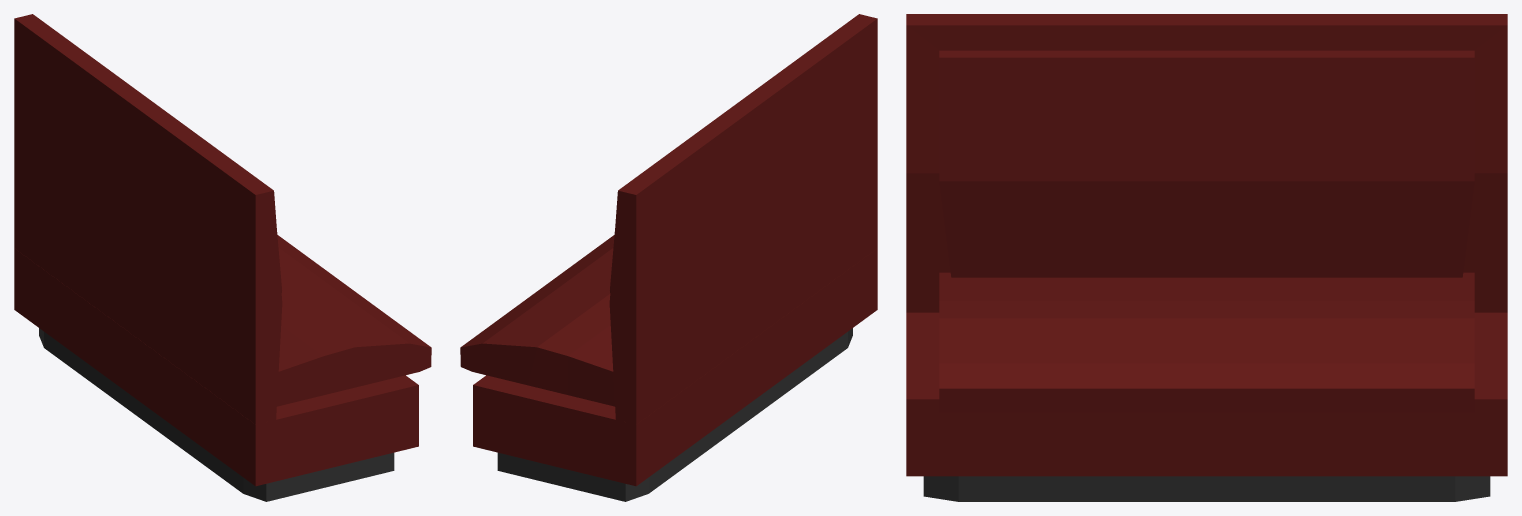
The model's file is booth.fbx.
3 views of the same model, side by side, from view 1: azimuth 30°, elevation 25°; view 2: azimuth 150°, elevation 25°; view 3: azimuth 270°, elevation 25° (orthographic). The views are drawn at different scales.
Parts seen in each view (by area): view 1: Cube.002, Cube.001, Cube; view 2: Cube.002, Cube.001, Cube; view 3: Cube.002, Cube.001, Cube.
Boxes of the visible parts, x1,y1,x2,y2 form: Cube.002: (14,14,282,424); Cube.001: (14,235,431,486); Cube: (39,328,394,501); Cube.002: (609,14,877,424); Cube.001: (460,235,877,486); Cube: (497,328,852,501); Cube.002: (906,14,1507,312); Cube.001: (906,272,1507,476); Cube: (923,476,1490,501).
Bounding box in the file's own units: 96.1 × 153 × 212.
